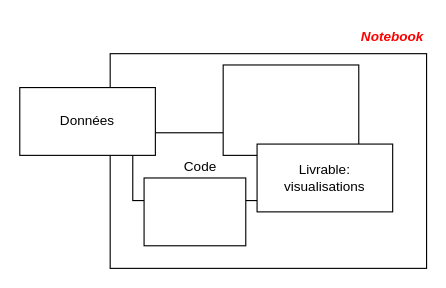
This 446x288 diagram has some shape labels left out. Each missing label, with the centre of its shape:
"Configuration" goes at point (194, 211).
"Livrable intermédiaire: modèle" goes at point (290, 109).
